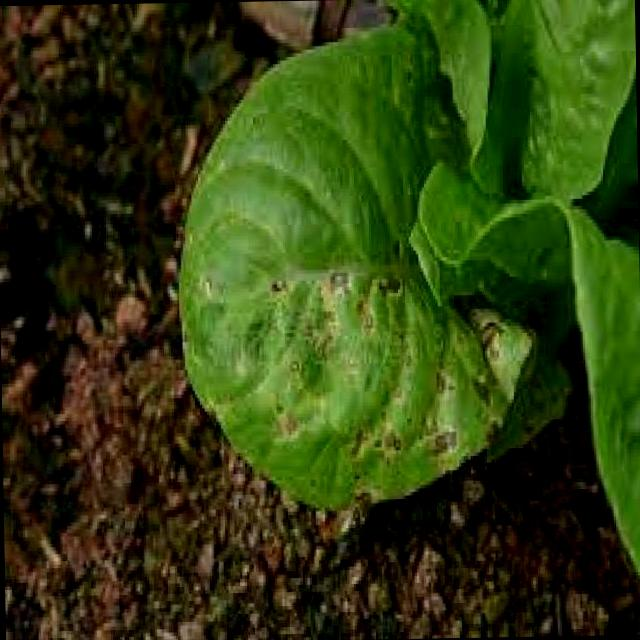Downy_mildew: (224, 174, 451, 477)
